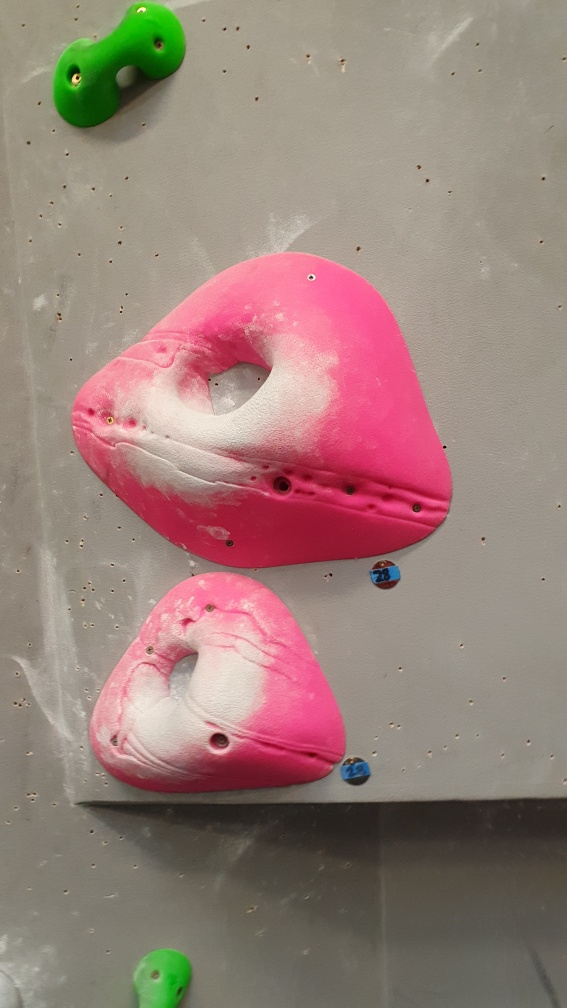Hand Start: (368, 557, 403, 593), (338, 755, 375, 789)
Pocket: (72, 252, 454, 568), (88, 570, 346, 796)
